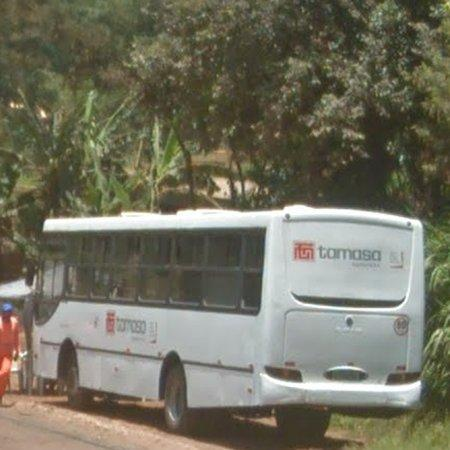buses: (32, 206, 425, 438)
